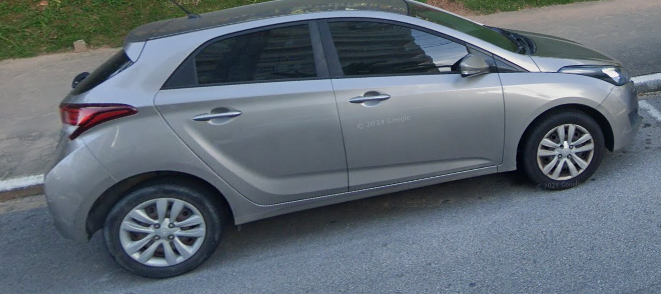car: (43, 1, 642, 278)
